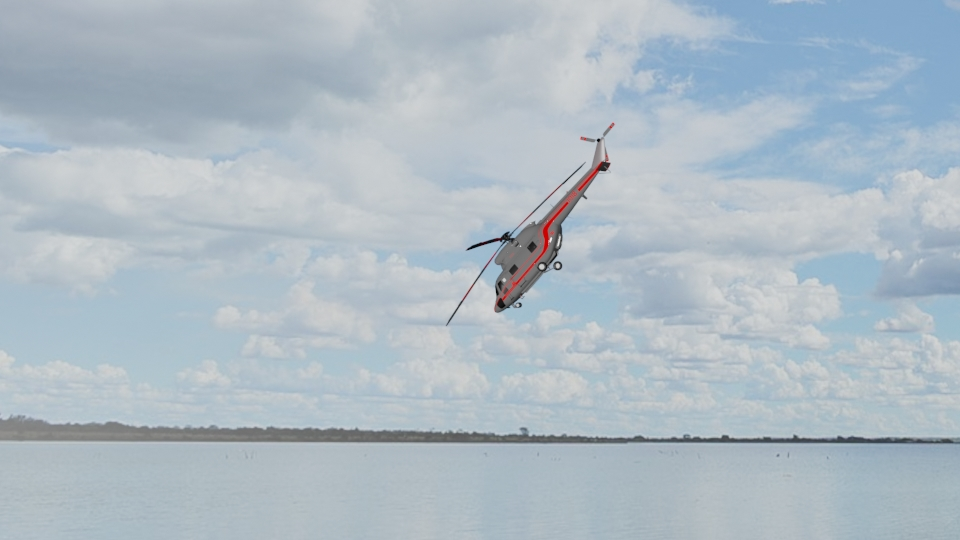heli: (469, 117, 618, 314)
